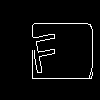F: (25, 23, 63, 74)
